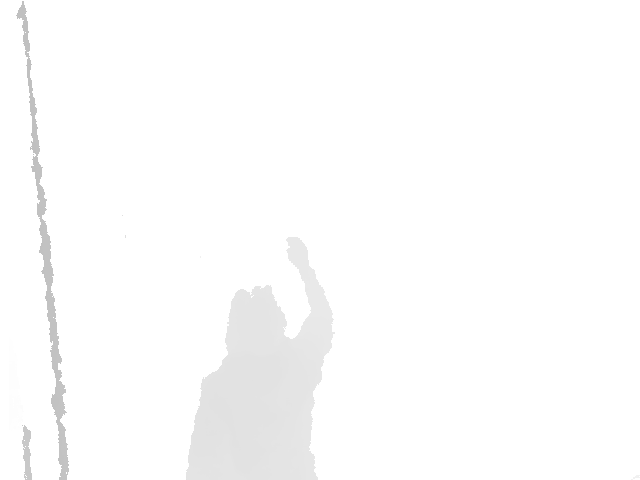hand: (284, 236, 310, 271)
head: (225, 285, 287, 360)
person: (186, 236, 336, 480)
